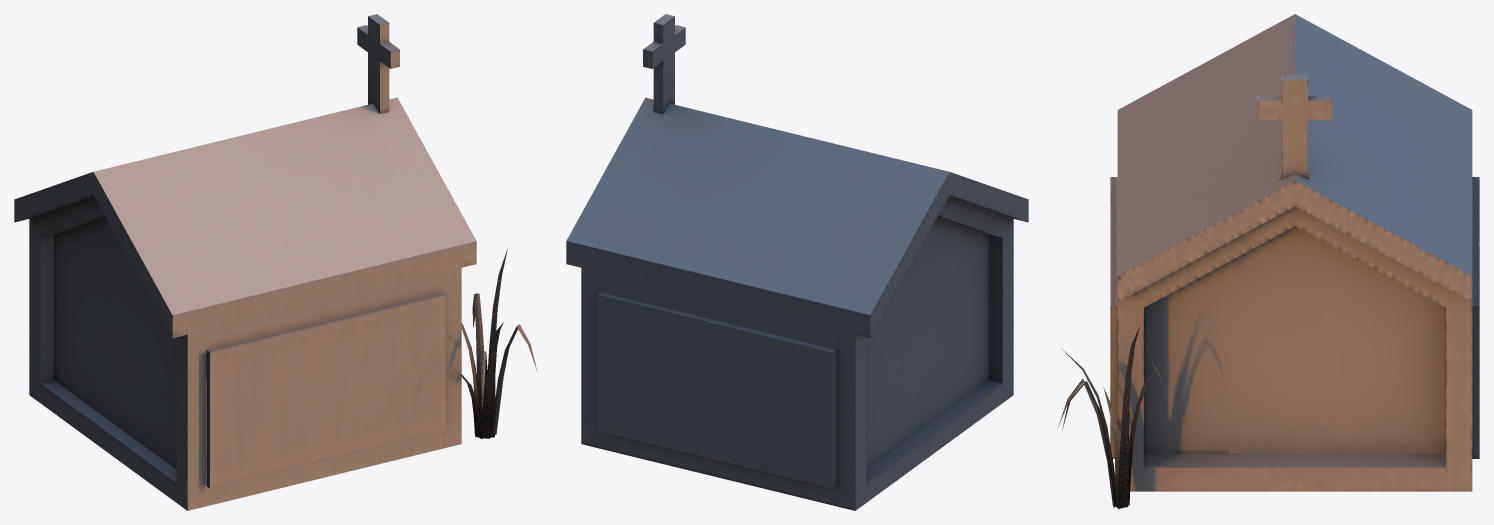
3 renders of one model, left to right at view 1: azimuth 30°, elevation 25°; view 2: azimuth 150°, elevation 25°; view 3: azimuth 270°, elevation 25°, orthographic. The views are drawn at different scales.
Visible parts, largest first — view 1: Tombe3; view 2: Tombe3; view 3: Tombe3.
Part boxes in pixels (x1=…): Tombe3: x1=14, y1=14, x2=537, y2=510; Tombe3: x1=566, y1=14, x2=1028, y2=510; Tombe3: x1=1058, y1=14, x2=1479, y2=509.
Bounding box in the file's own units: 2.52 × 2.56 × 2.38.
1 material, 1 textured.
